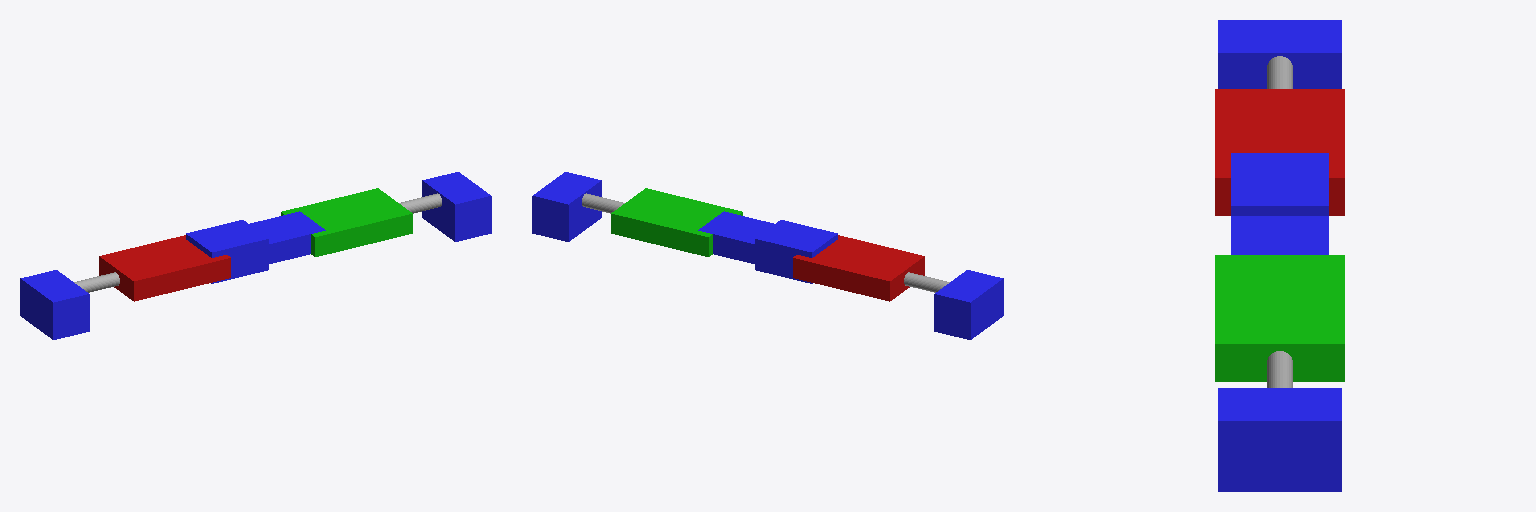
The robot description file, URDF, robot "Space Jockey":
<?xml version="1.0"?>
<robot name="Space Jockey">
  <material name="blue"><color rgba=".2 .2 1 1"/></material>
  <material name="green"><color rgba=".1 .8 .1 1"/></material>
  <material name="silver"><color rgba=".7 .7 .7 1"/></material>
  <material name="red"><color rgba=".8 .1 .1 1"/></material>

  <link name="center_seg">
    <visual>
      <geometry>
        <box size=".095 .075 .032"/>
      </geometry>
      <origin xyz="0.0475 0 0"/>
      <material name="blue" />
    </visual>
  </link>

  <link name="center_aft">
    <visual>
      <geometry>
        <box size=".095 .075 .05"/>
      </geometry>
      <origin xyz="-0.0475 0 0"/>
      <material name="blue" />
    </visual>
  </link>

  <link name="fore_base_pole">
    <visual>
      <geometry>
        <box size=".162 .100 .032"/>
      </geometry>
      <origin xyz="0.081 0 0"/>
      <material name="green" />
    </visual>
  </link>

  <link name="fore_base_prism">
    <visual>
      <geometry>
        <cylinder length="0.15" radius=".010"/>
      </geometry>
      <origin rpy="0 1.57075 0 " xyz="-0.075 0 0"/>
      <material name="silver" />
    </visual>
  </link>

  <link name="front_seg">
    <visual>
      <geometry>
        <box size=".060 .095 .060"/>
      </geometry> 
      <origin xyz="0.030 0 -0.01763"/>
      <material name="blue" />
    </visual>
  </link>

  <link name="aft_base_pole">
    <visual>
      <geometry>
      	<box size=".162 .100 .032"/>
      </geometry>
      <origin xyz="-0.081 0 0"/>
      <material name="red" />
    </visual>
  </link>

  <link name="aft_base_prism">
    <visual>
      <geometry>
        <cylinder length="0.15" radius=".010"/>
      </geometry>
      <origin rpy="0 1.57075 0 " xyz="0.075 0 0"/>
      <material name="silver" />
    </visual>
  </link>

  <link name="rear_seg">
    <visual>
      <geometry>
        <box size=".060 .095 .060"/>
      </geometry> 
      <origin xyz="-0.030 0 -0.01763"/>
      <material name="blue"/>
    </visual>
  </link>

  <!--  stub frames  -->
  <link name="robot" />
  <link name="camera" />
  <link name="front_foot" />
  <link name="center_foot" />
  <link name="rear_foot" />

  <!-- this is a fake joint for communicating robot rotations from the IK easily -->
  <joint name="robot_rot" type="continuous"> 
    <axis xyz="0 0 1"/>
    <parent link="robot"/>
    <child link="center_aft"/>
    <origin xyz="0 0 .067" />
    <limit effort="1000.0" lower="-3.15" upper="3.15" velocity="2.094"/>
  </joint>

  <joint name="center_swivel" type="revolute">
    <axis xyz="0 0 1"/>
    <limit effort="1000.0" lower="-.436" upper=".436" velocity="2.094"/>
    <parent link="center_aft"/>
    <child link="center_seg"/>
  </joint>

  <joint name="fore_base_pitch" type="revolute">
    <axis xyz="0 1 0"/>
    <limit effort="1000.0" lower="-.524" upper=".524" velocity="2.094"/>
    <origin xyz="0.06985 0 0"/>
    <parent link="center_seg"/>
    <child link="fore_base_pole"/>
  </joint>

  <joint name="fore_extend" type="prismatic">
    <parent link="fore_base_pole"/>
    <child link="fore_base_prism"/>
    <limit effort="1000.0" lower="0.1902" upper="0.2781" velocity="0.048"/>
  </joint>

  <joint name="front_pitch" type="revolute">
    <axis xyz="0 1 0"/>
    <limit effort="1000.0" lower="-.785" upper=".785" velocity="2.094"/>
    <parent link="fore_base_prism"/>
    <child link="front_seg"/>
  </joint>

  <joint name="aft_base_pitch" type="revolute">
    <axis xyz="0 1 0"/>
    <limit effort="1000.0" lower="-.524" upper=".524" velocity="2.094"/>
    <origin xyz="-0.06985 0 0"/>
    <parent link="center_aft"/>
    <child link="aft_base_pole"/>
  </joint>

  <joint name="aft_extend" type="prismatic">
    <parent link="aft_base_pole"/>
    <child link="aft_base_prism"/>
    <axis xyz="-1 0 0"/>
    <limit effort="1000.0" lower="0.1902" upper="0.2781" velocity="0.048"/>
  </joint>

  <joint name="rear_pitch" type="revolute">
    <axis xyz="0 1 0"/>
    <limit effort="1000.0" lower="-.785" upper=".785" velocity="2.094"/>
    <parent link="aft_base_prism"/>
    <child link="rear_seg"/>
  </joint>

  <joint name="front_attach" type="fixed">
    <parent link="front_seg"/>
    <child link="front_foot"/>
    <!-- <limit effort="1000.0" lower="0" upper="0.006" velocity=" 2.094"/>
    <axis xyz="0 0 -1"/> -->
    <origin xyz="0.00069 0 -0.04763"/>
  </joint>

  <joint name="center_attach" type="prismatic">
    <parent link="robot"/>
    <child link="center_foot"/>
    <limit effort="1000.0" lower="0" upper="0.006" velocity="1.0"/>
    <axis xyz="0 0 -1"/>
  </joint>

  <joint name="rear_attach" type="fixed">
    <parent link="rear_seg"/>
    <child link="rear_foot"/>
    <!-- <limit effort="1000.0" lower="0" upper="0.006" velocity="0.5"/>
    <axis xyz="0 0 -1"/> -->
    <origin xyz="0.00069 0 -0.04763"/>
  </joint>

  <joint name="camera_fixed" type="fixed">
    <origin xyz=".082 .019 -.009" rpy="0 2.3562 0"/>
    <parent link="front_seg"/>
    <child link="camera"/>
  </joint>
</robot>

--- What the picture shows (computed from the rendered views, not written in the file) ---
3 views of the same robot in one strip: view 1: azimuth 30°, elevation 25°; view 2: azimuth 150°, elevation 25°; view 3: azimuth 270°, elevation 25° (orthographic).
Robot: Space Jockey — 13 links, 12 joints (5 revolute, 1 continuous, 3 prismatic, 3 fixed); root link robot; default pose: all joints at 0 but 2 set to mid-range because 0 is outside their limits (fore_extend = 0.2341, aft_extend = 0.2341).
Visible links, largest first — view 1: aft_base_pole, fore_base_pole, rear_seg, front_seg, center_aft, center_seg, aft_base_prism; view 2: aft_base_pole, fore_base_pole, rear_seg, front_seg, center_aft, center_seg, aft_base_prism; view 3: fore_base_pole, front_seg, aft_base_pole, rear_seg, center_aft, center_seg, fore_base_prism, aft_base_prism.
Link boxes in pixels (x1=…): aft_base_pole: x1=99, y1=235, x2=230, y2=301; fore_base_pole: x1=281, y1=188, x2=412, y2=256; rear_seg: x1=20, y1=270, x2=89, y2=339; front_seg: x1=422, y1=172, x2=491, y2=241; center_aft: x1=186, y1=220, x2=268, y2=283; center_seg: x1=250, y1=211, x2=325, y2=263; aft_base_prism: x1=74, y1=272, x2=119, y2=292; aft_base_pole: x1=793, y1=235, x2=924, y2=301; fore_base_pole: x1=611, y1=188, x2=742, y2=256; rear_seg: x1=934, y1=270, x2=1003, y2=339; front_seg: x1=532, y1=172, x2=601, y2=241; center_aft: x1=755, y1=220, x2=837, y2=283; center_seg: x1=698, y1=211, x2=773, y2=263; aft_base_prism: x1=904, y1=272, x2=949, y2=292; fore_base_pole: x1=1215, y1=255, x2=1344, y2=381; front_seg: x1=1218, y1=388, x2=1341, y2=491; aft_base_pole: x1=1215, y1=89, x2=1344, y2=215; rear_seg: x1=1218, y1=20, x2=1341, y2=88; center_aft: x1=1231, y1=153, x2=1328, y2=215; center_seg: x1=1231, y1=216, x2=1328, y2=254; fore_base_prism: x1=1267, y1=351, x2=1292, y2=387; aft_base_prism: x1=1267, y1=56, x2=1292, y2=88.
Size in the robot's own frame: 0.728 by 0.1 by 0.0726 metres.
Geometry: primitives only (box / cylinder / sphere), no mesh files.
